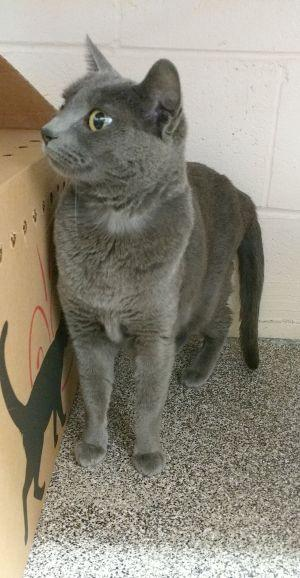rblue: (21, 8, 208, 225)
